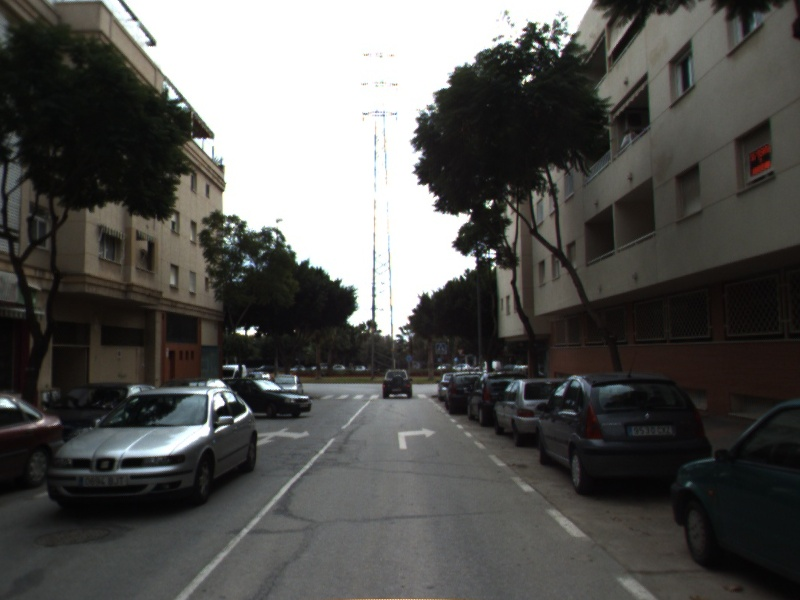RIGHT: (395, 425, 439, 451)
